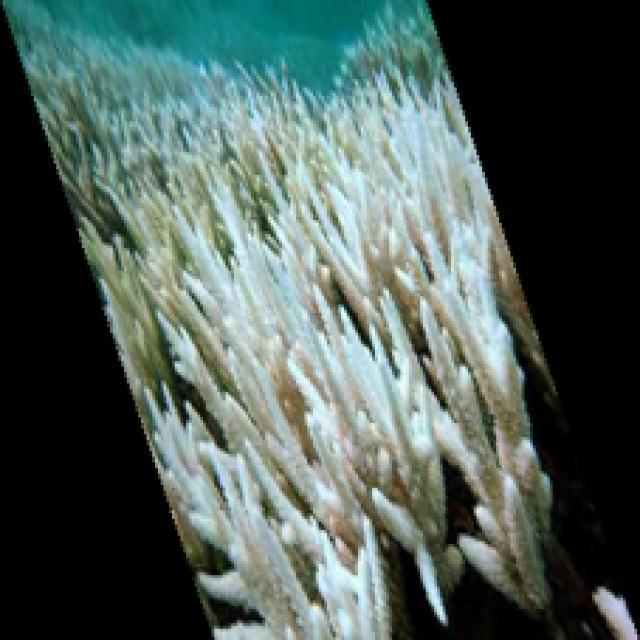Bleached: (142, 71, 640, 640), (3, 1, 335, 424), (281, 299, 467, 624), (335, 1, 456, 96)
